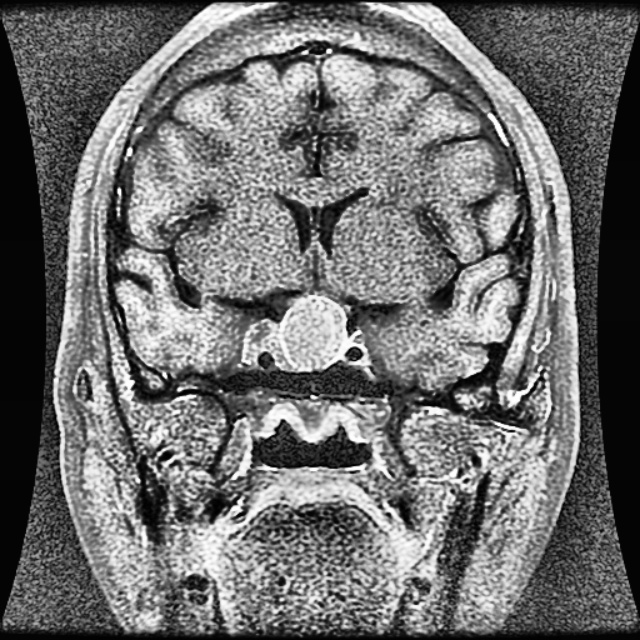Pituitary: (244, 295, 348, 370)
